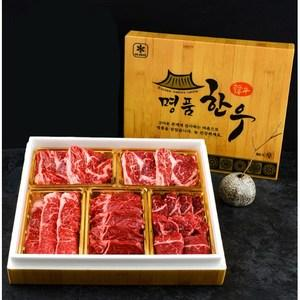beef: (72, 91, 98, 118), (44, 90, 67, 118), (15, 90, 37, 119), (17, 71, 51, 86), (58, 72, 92, 86)
